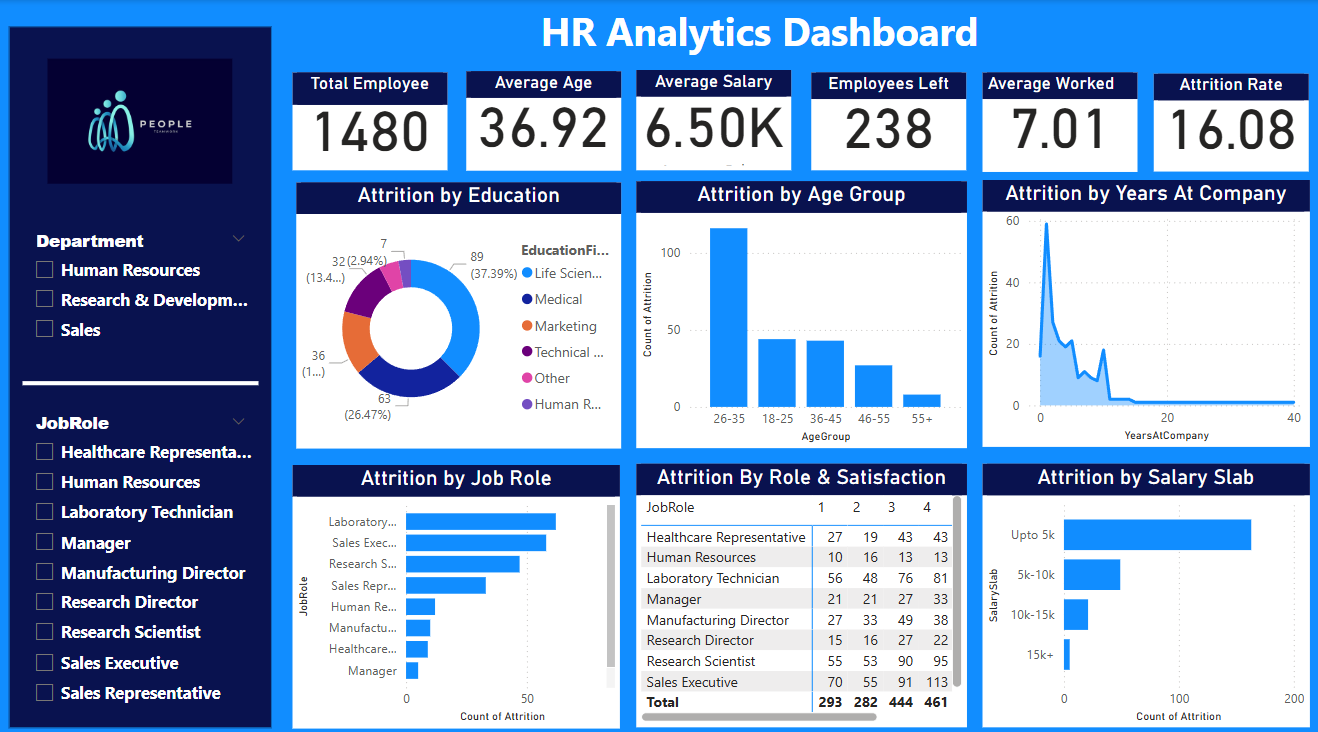

What the dashboard file says about the page in this screenshot:
{"tool":"powerbi","page":{"name":"Page 1","canvas":[1280,720],"ordinal":0},"visuals":[{"type":"card","title":"Total Employee","fields":{"Values":["CountNonNull(HR_Analytics.EmpID)"]},"box":[287.7,69.7,149.4,94.6],"z":0},{"type":"card","title":"Attrition Rate","fields":{"Values":["HR_Analytics.Attrition Rate"]},"box":[1118.4,71,149.4,94.6],"z":1000},{"type":"card","title":"Average Age","fields":{"Values":["HR_Analytics.Average Age"]},"box":[454.6,68.5,149.4,95.9],"z":2000},{"type":"card","title":"Average Worked","fields":{"Values":["HR_Analytics.Average Years at Company"]},"box":[952.7,69.7,149.4,95.9],"z":3000},{"type":"card","title":"Average Salary","fields":{"Values":["HR_Analytics.Average Salary"]},"box":[619,67.3,149.4,97.1],"z":4000},{"type":"card","title":"Employees Left","fields":{"Values":["HR_Analytics.Employees_Left"]},"box":[788.3,69.7,149.4,94.6],"z":5000},{"type":"textbox","box":[501.9,0,472,59.8],"z":6000},{"type":"donutChart","title":"Attrition by Education","fields":{"Y":["CountNonNull(HR_Analytics.Attrition)"],"Category":["HR_Analytics.EducationField"]},"box":[290.2,175.6,313.8,256.5],"z":7000},{"type":"columnChart","title":"Attrition by Age Group","fields":{"Category":["HR_Analytics.AgeGroup"],"Y":["CountNonNull(HR_Analytics.Attrition)"]},"box":[619,174.4,318.8,257.8],"z":8000},{"type":"lineChart","title":"Attrition by Years At Company","fields":{"Category":["HR_Analytics.YearsAtCompany"],"Y":["CountNonNull(HR_Analytics.Attrition)"]},"box":[952.8,174.2,315.6,257.5],"z":9000},{"type":"clusteredBarChart","title":"Attrition by Job Role","fields":{"Category":["HR_Analytics.JobRole"],"Y":["CountNonNull(HR_Analytics.Attrition)"]},"box":[287.7,448.3,316.3,254.1],"z":10000},{"type":"clusteredBarChart","title":"Attrition by Salary Slab","fields":{"Y":["CountNonNull(HR_Analytics.Attrition)"],"Category":["HR_Analytics.SalarySlab"]},"box":[952.8,448.1,315.6,254.6],"z":11000},{"type":"shape","box":[13.7,24.9,254.1,677.5],"z":12000},{"type":"slicer","fields":{"Values":["HR_Analytics.Department"]},"box":[26.8,215.9,227.8,132.5],"z":13000},{"type":"slicer","fields":{"Values":["HR_Analytics.JobRole"]},"box":[26.8,391.5,227.8,299.2],"z":14000},{"type":"shape","box":[26.8,363.2,227.8,13.4],"z":15000},{"type":"pivotTable","title":"Attrition By Role & Satisfaction","fields":{"Rows":["HR_Analytics.JobRole"],"Values":["CountNonNull(HR_Analytics.Attrition)"],"Columns":["HR_Analytics.JobSatisfaction"]},"box":[619,448,319,254],"z":16000},{"type":"image","box":[46.1,24.9,188.1,183.1],"z":17000}]}

Visuals, with their boxes in screenshot pixels (x1, y1, x2, y2), scaled from the page's 1280x720 canvas onto the 1318x732 screenshot:
"Total Employee" card: left=296, top=71, right=450, bottom=167
"Attrition Rate" card: left=1152, top=72, right=1305, bottom=168
"Average Age" card: left=468, top=70, right=622, bottom=167
"Average Worked" card: left=981, top=71, right=1135, bottom=168
"Average Salary" card: left=637, top=68, right=791, bottom=167
"Employees Left" card: left=812, top=71, right=966, bottom=167
textbox: left=517, top=0, right=1003, bottom=61
"Attrition by Education" donutChart: left=299, top=179, right=622, bottom=439
"Attrition by Age Group" columnChart: left=637, top=177, right=966, bottom=439
"Attrition by Years At Company" lineChart: left=981, top=177, right=1306, bottom=439
"Attrition by Job Role" clusteredBarChart: left=296, top=456, right=622, bottom=714
"Attrition by Salary Slab" clusteredBarChart: left=981, top=456, right=1306, bottom=714
shape: left=14, top=25, right=276, bottom=714
slicer - HR_Analytics.Department: left=28, top=219, right=262, bottom=354
slicer - HR_Analytics.JobRole: left=28, top=398, right=262, bottom=702
shape: left=28, top=369, right=262, bottom=383
"Attrition By Role & Satisfaction" pivotTable: left=637, top=455, right=966, bottom=714
image: left=47, top=25, right=241, bottom=211
